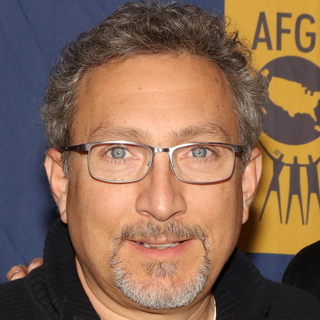eye: (175, 144, 227, 165), (94, 143, 142, 165)
